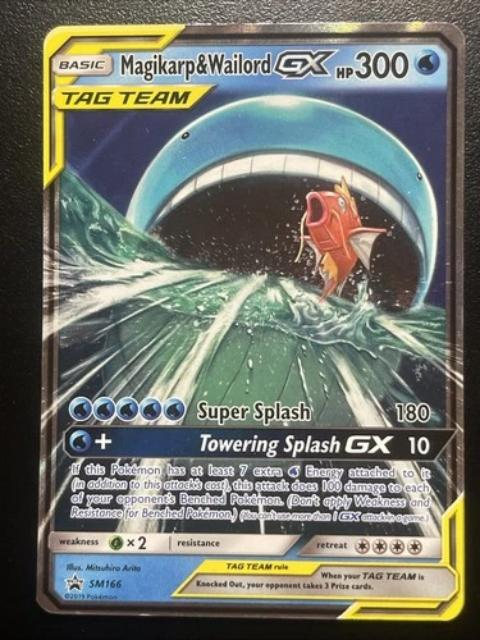Card: (32, 16, 470, 627)
Name: (114, 48, 345, 84)
